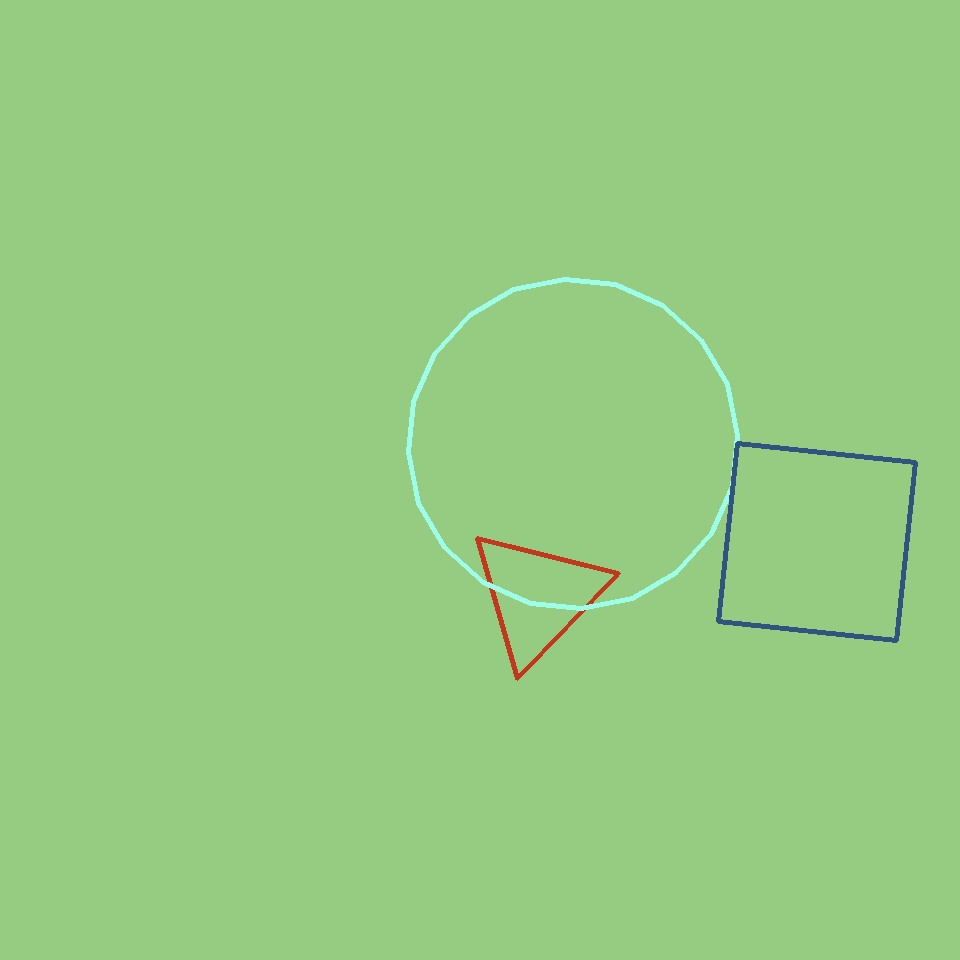circle: (468, 527, 608, 667)
square: (719, 444, 916, 640)
triangle: (408, 280, 738, 608)
